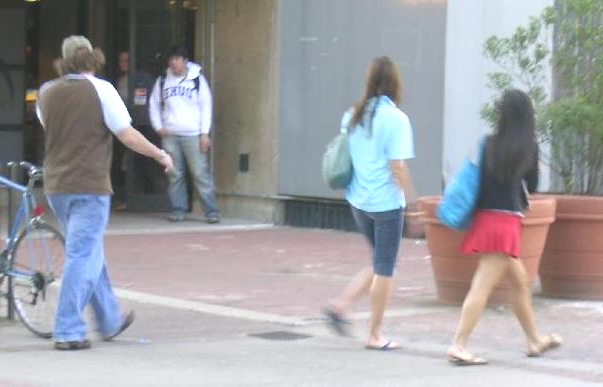pedestrian: (35, 36, 173, 349), (450, 88, 561, 364), (320, 55, 415, 349), (148, 46, 220, 223)
